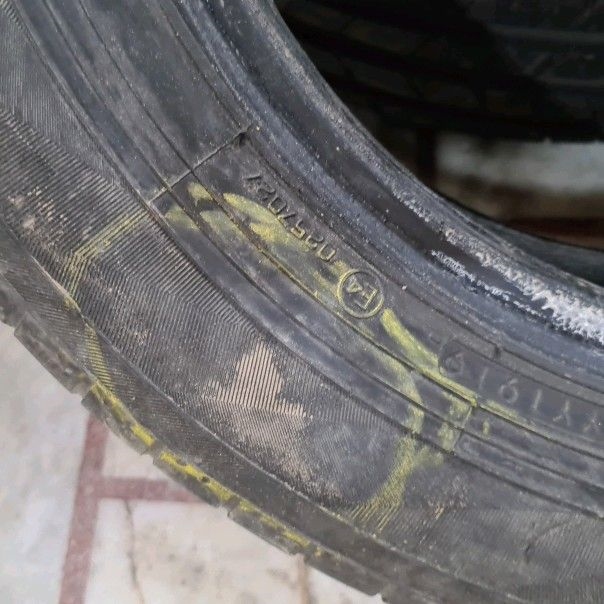CBU: (116, 263, 390, 490)
